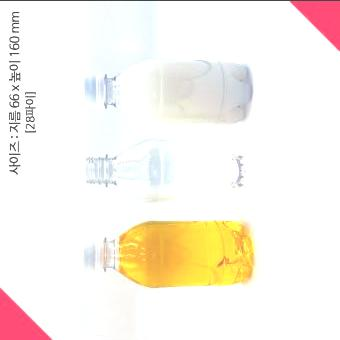bottle: (84, 134, 254, 204), (83, 219, 253, 287), (82, 57, 251, 125)
